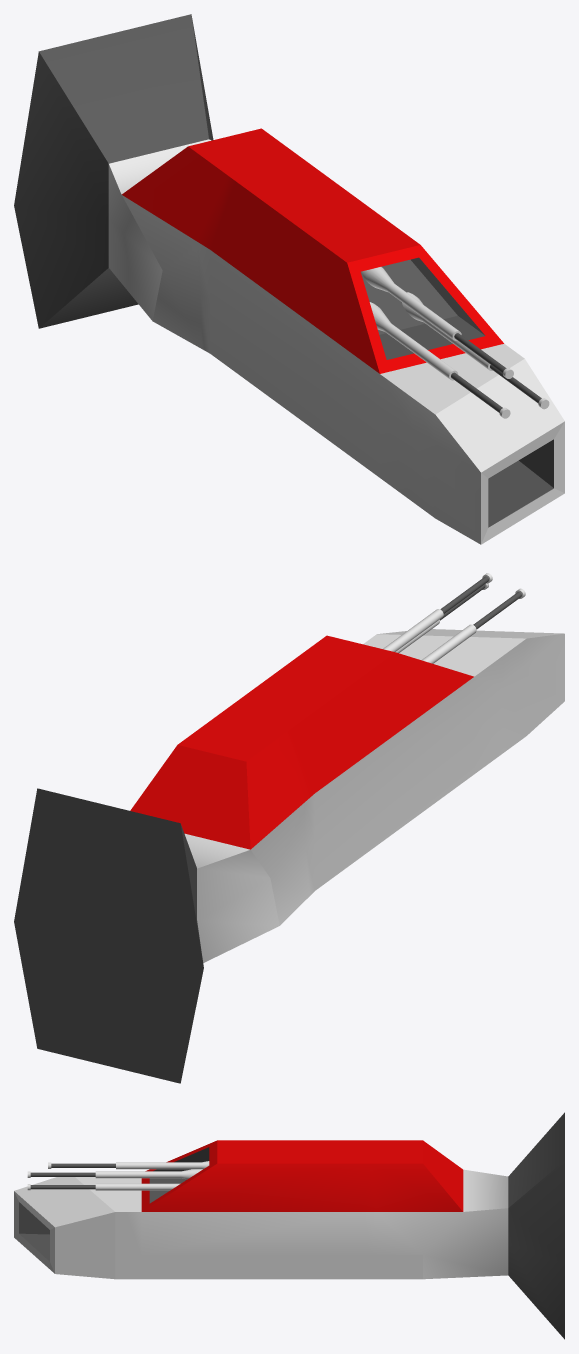
The model's file is LEFT_ROCKET.fbx.
3 renders of one model, top to bottom at view 1: azimuth 30°, elevation 25°; view 2: azimuth 150°, elevation 25°; view 3: azimuth 270°, elevation 25°, orthographic. The views are drawn at different scales.
Visible parts, largest first — view 1: polySurface31; view 2: polySurface31; view 3: polySurface31.
Part boxes in pixels (x1,y1,x2,y2): polySurface31: (14,14,564,544); polySurface31: (14,573,564,1083); polySurface31: (14,1112,564,1339).
Bounding box in the file's own units: 212 × 278 × 774.
